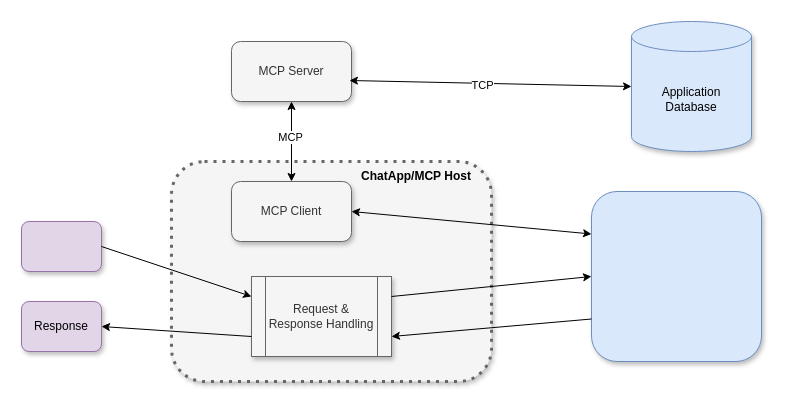
Image size: 785x407. Some labels were removed from this diagram. The shapes that lost their labels are listed below. From the top down, each one's centre as x and y in pixels, then its label:
pixel 62 247: Prompt
pixel 677 277: LLM
